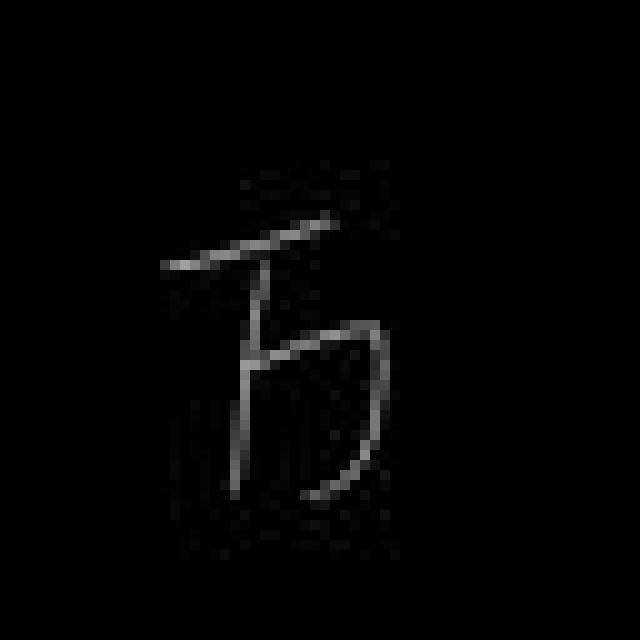10000 -a ten thousand-: (141, 196, 405, 516)
